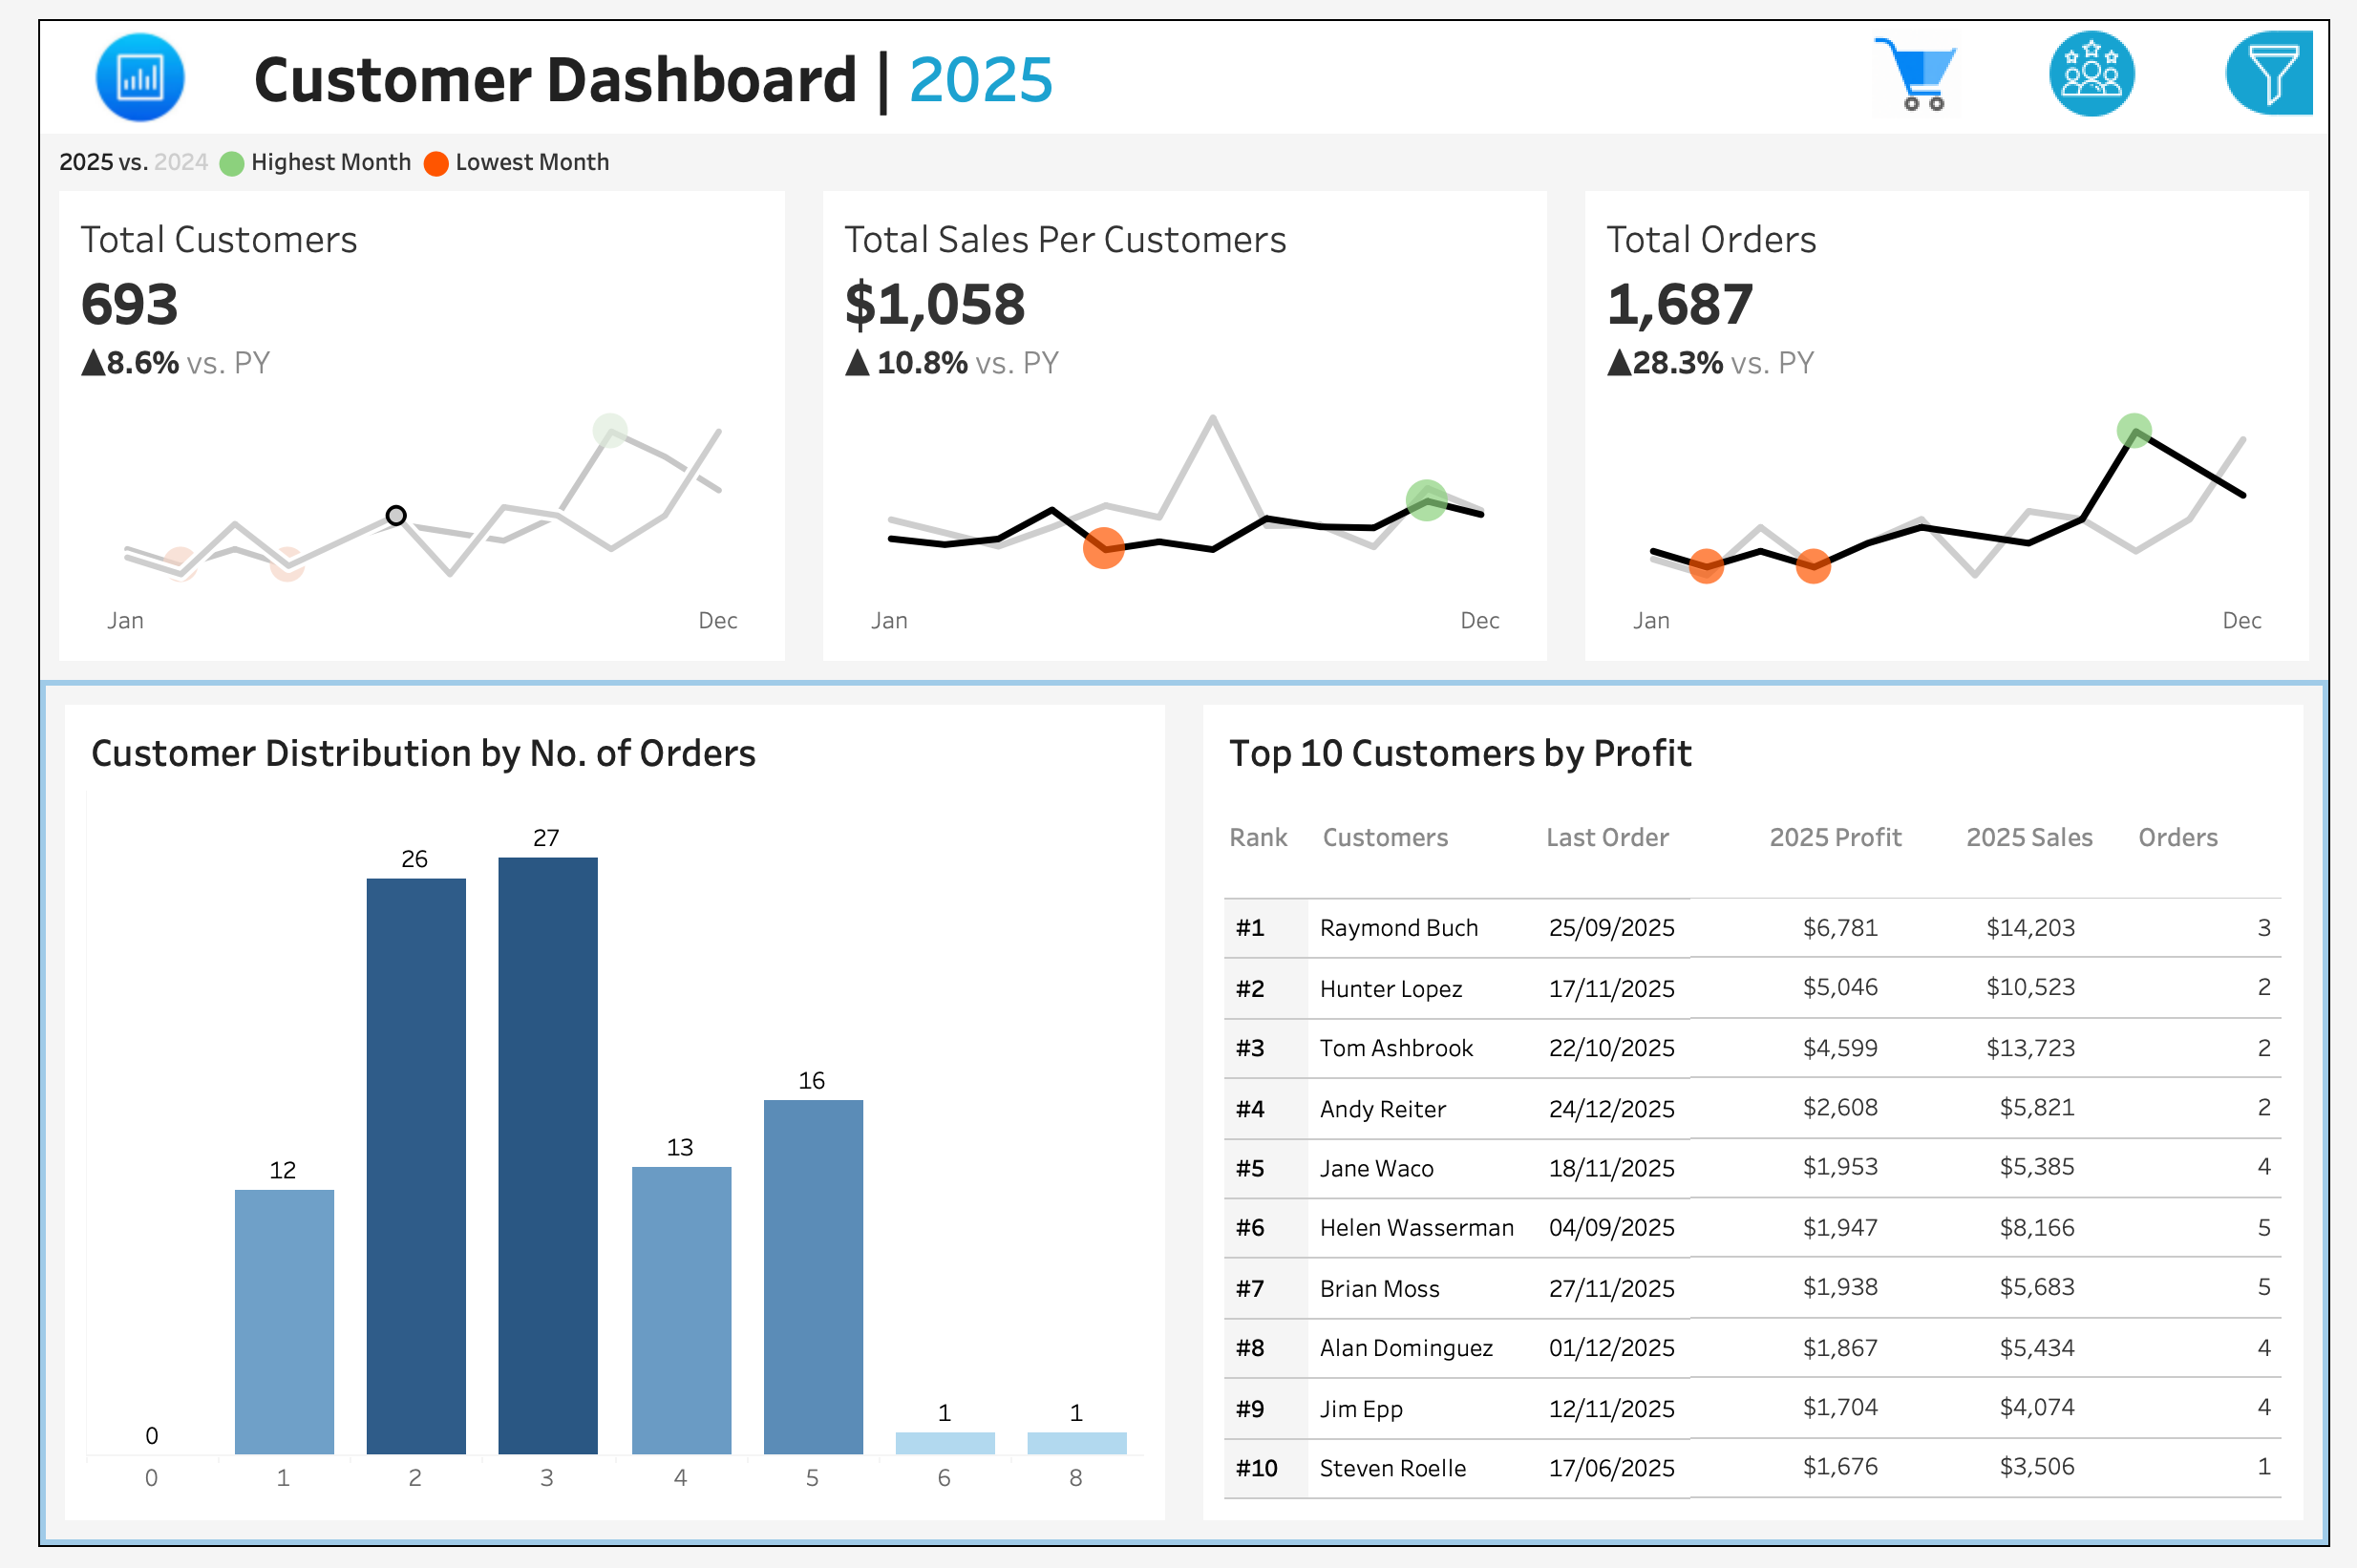

The page's visual inventory and layout, read from the dashboard file:
{"tool":"tableau","page":{"name":"Customer Dashboard","canvas":[1200,800],"ordinal":0},"visuals":[{"type":"image","param":"Image/Icon - Logo.png","box":[0,0,73,59]},{"type":"text","box":[73,0,820,59]},{"type":"dashboard-object","box":[940,6,91,70]},{"type":"dashboard-object","box":[1031,6,91,70]},{"type":"blank","box":[952,10,237,86]},{"type":"worksheet","title":"Legend KPI","mark":"Automatic","box":[0,59,1200,29]},{"type":"worksheet","title":"KPI Customers","mark":"Automatic","rows":["Min/Max Quantity (copy)_3221481164588691468"],"cols":["Order Date"],"box":[0,88,400,284]},{"type":"worksheet","title":"KPI Sales Per Customers","mark":"Automatic","rows":["Min/Max Quantity (copy)_3221481164537155591"],"cols":["Order Date"],"box":[400,88,400,284]},{"type":"worksheet","title":"KPI Orders","mark":"Automatic","rows":["Min/Max Sales (copy)_3221481164601258003"],"cols":["Order Date"],"box":[800,88,400,284]},{"type":"text","box":[952,96,237,37]},{"type":"parameter","param":"[Parameters].[Parameter 1]","box":[952,133,237,55]},{"type":"text","box":[952,188,237,32]},{"type":"filter","title":"KPI Customers","param":"[federated.1kpxa041aiai2y1cl4pui1t4eju9].[none:Category:nk]","box":[952,220,237,57]},{"type":"filter","title":"KPI Customers","param":"[federated.1kpxa041aiai2y1cl4pui1t4eju9].[none:Sub-Category:nk]","box":[952,277,237,57]},{"type":"blank","box":[952,334,237,60]},{"type":"text","box":[17,389,566,37]},{"type":"text","box":[617,389,566,37]},{"type":"text","box":[952,394,237,32]},{"type":"worksheet","title":"Customer Distribution","mark":"Bar","rows":["CY Sales (copy)_3221481164532666369"],"cols":["Calculation_998110323739992064"],"box":[17,426,566,357]},{"type":"text","box":[617,426,53,40]},{"type":"text","box":[670,426,130,40]},{"type":"text","box":[800,426,111,40]},{"type":"text","box":[911,426,108,40]},{"type":"filter","title":"KPI Customers","param":"[federated.1kpxa041aiai2y1cl4pui1t4eju9].[none:Region:nk]","box":[952,426,237,57]},{"type":"text","box":[1019,426,101,40]},{"type":"text","box":[1120,426,63,40]},{"type":"worksheet","title":"Top Customers","mark":"Automatic","rows":["Calculation_782500491678904334","Customer Name","Order Date"],"box":[617,466,566,317]},{"type":"filter","title":"KPI Customers","param":"[federated.1kpxa041aiai2y1cl4pui1t4eju9].[none:State:nk]","box":[952,483,237,57]},{"type":"filter","title":"KPI Customers","param":"[federated.1kpxa041aiai2y1cl4pui1t4eju9].[none:City:nk]","box":[952,540,237,57]}]}

Visuals, with their boxes in screenshot pixels (x1, y1, x2, y2), scaled from the page's 1200x800 canvas onto the 2357x1568 screenshot:
image: crop(0, 0, 143, 116)
text: crop(143, 0, 1754, 116)
dashboard-object: crop(1846, 11, 2025, 149)
dashboard-object: crop(2025, 11, 2204, 149)
blank: crop(1870, 20, 2335, 188)
"Legend KPI" worksheet: crop(0, 116, 2356, 173)
"KPI Customers" worksheet: crop(0, 173, 786, 730)
"KPI Sales Per Customers" worksheet: crop(786, 173, 1571, 730)
"KPI Orders" worksheet: crop(1571, 173, 2356, 730)
text: crop(1870, 188, 2335, 261)
parameter: crop(1870, 261, 2335, 369)
text: crop(1870, 369, 2335, 432)
"KPI Customers" filter: crop(1870, 432, 2335, 543)
"KPI Customers" filter: crop(1870, 543, 2335, 655)
blank: crop(1870, 655, 2335, 773)
text: crop(33, 762, 1145, 835)
text: crop(1212, 762, 2324, 835)
text: crop(1870, 773, 2335, 835)
"Customer Distribution" worksheet (Bar marks): crop(33, 835, 1145, 1535)
text: crop(1212, 835, 1316, 913)
text: crop(1316, 835, 1571, 913)
text: crop(1571, 835, 1790, 913)
text: crop(1790, 835, 2002, 913)
"KPI Customers" filter: crop(1870, 835, 2335, 946)
text: crop(2002, 835, 2199, 913)
text: crop(2199, 835, 2324, 913)
"Top Customers" worksheet: crop(1212, 913, 2324, 1535)
"KPI Customers" filter: crop(1870, 946, 2335, 1058)
"KPI Customers" filter: crop(1870, 1058, 2335, 1170)
